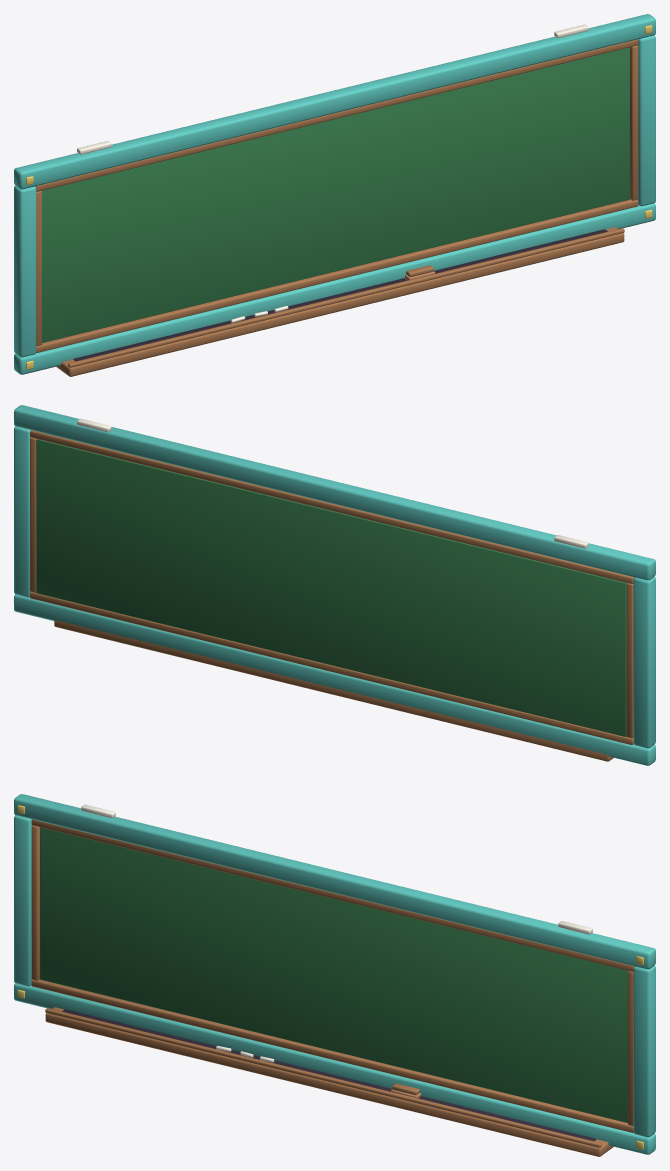
The model's file is board.glb.
3 renders of one model, top to bottom at view 1: azimuth 30°, elevation 25°; view 2: azimuth 150°, elevation 25°; view 3: azimuth 330°, elevation 25°, orthographic.
Visible parts, largest first — view 1: FurnBoard_Surface, FurnBoard_OuterFrame, FurnBoard_WoodTrim, FurnBoard_TrayBed, FurnBoard_ChalkCleats; view 2: FurnBoard_Surface, FurnBoard_OuterFrame, FurnBoard_WoodTrim, FurnBoard_ChalkCleats; view 3: FurnBoard_Surface, FurnBoard_OuterFrame, FurnBoard_WoodTrim, FurnBoard_TrayBed, FurnBoard_ChalkCleats.
Boxes of the visible parts, left/top/right/bottom form: FurnBoard_Surface: left=41, top=47, right=629, bottom=342; FurnBoard_OuterFrame: left=14, top=14, right=655, bottom=374; FurnBoard_WoodTrim: left=35, top=39, right=638, bottom=376; FurnBoard_TrayBed: left=73, top=229, right=607, bottom=361; FurnBoard_ChalkCleats: left=77, top=24, right=588, bottom=323; FurnBoard_Surface: left=36, top=439, right=626, bottom=736; FurnBoard_OuterFrame: left=14, top=405, right=655, bottom=765; FurnBoard_WoodTrim: left=30, top=430, right=634, bottom=761; FurnBoard_ChalkCleats: left=77, top=418, right=588, bottom=548; FurnBoard_Surface: left=40, top=827, right=628, bottom=1122; FurnBoard_OuterFrame: left=14, top=794, right=655, bottom=1154; FurnBoard_WoodTrim: left=31, top=819, right=634, bottom=1156; FurnBoard_TrayBed: left=62, top=1009, right=596, bottom=1141; FurnBoard_ChalkCleats: left=81, top=804, right=592, bottom=1062.
Bounding box in the file's own units: 4.4 × 1.4 × 0.198.
